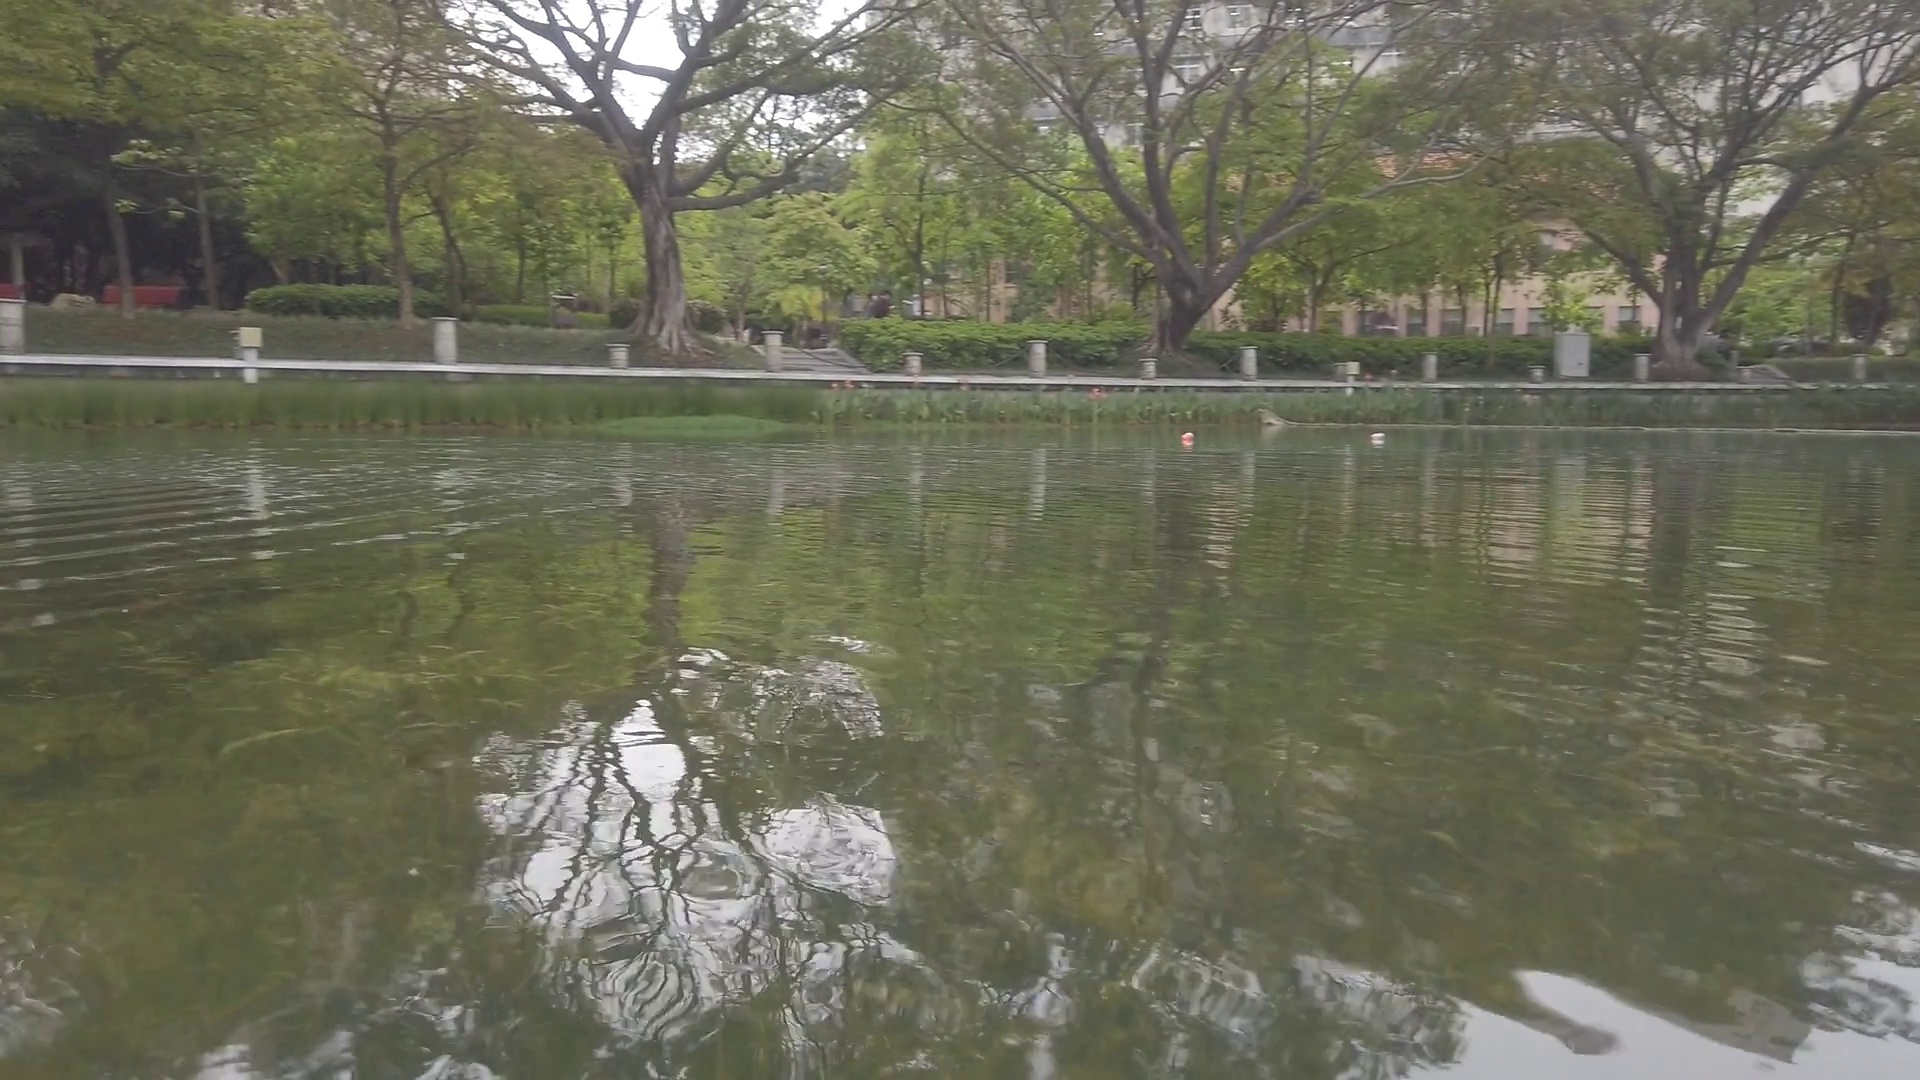bottle: (1371, 430, 1389, 444), (1180, 431, 1193, 444)
